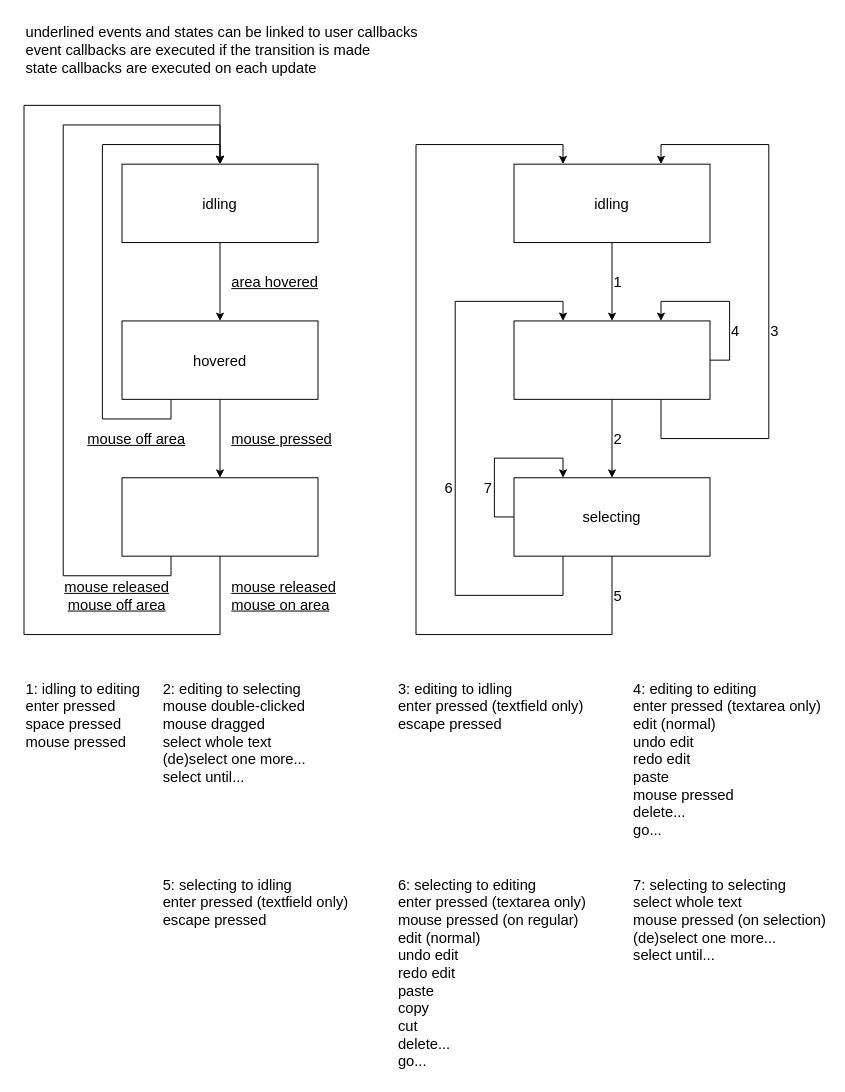
Image size: 845x1092. Some labels were removed from this diagram. Each missing label, with the box of its shape:
dragged: (121, 477, 318, 556)
editing: (513, 320, 710, 399)
